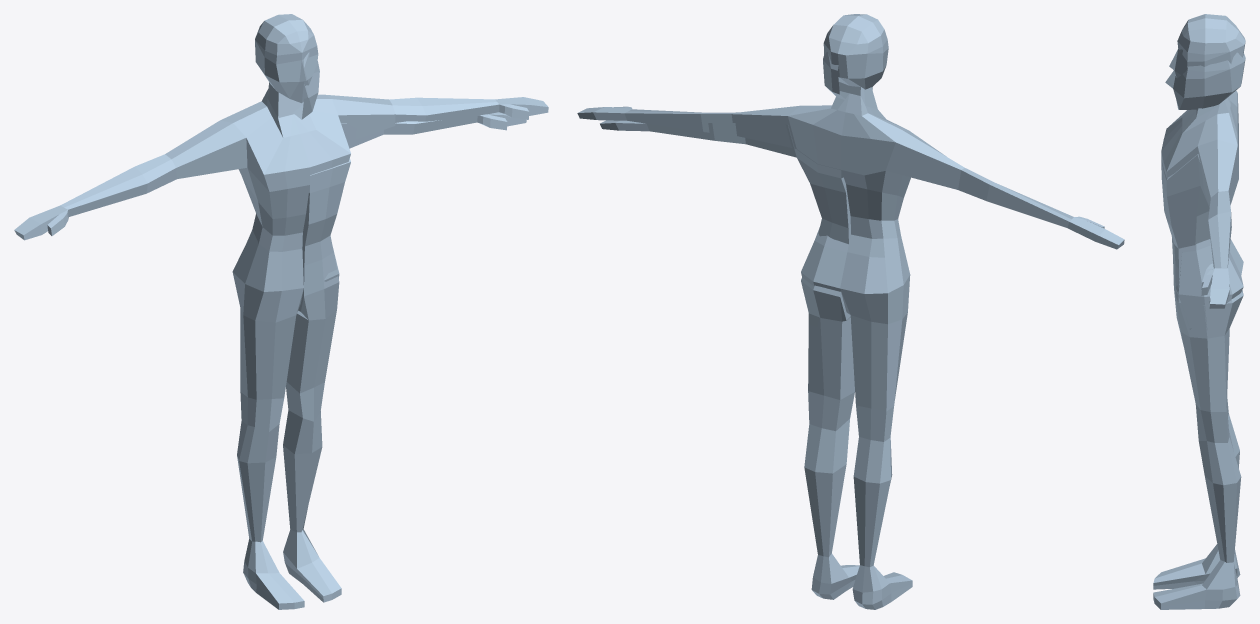
File: body.fbx
3 renders of one model, left to right at view 1: azimuth 30°, elevation 25°; view 2: azimuth 150°, elevation 25°; view 3: azimuth 270°, elevation 25°, orthographic. The views are drawn at different scales.
Visible parts, largest first — view 1: Cube.003, Cube, Cube.002; view 2: Cube.003, Cube, Cube.002; view 3: Cube, Cube.003, Cube.002.
Part boxes in pixels (bbox=[...]): Cube.003: bbox=[14, 82, 548, 609]; Cube: bbox=[283, 52, 526, 602]; Cube.002: bbox=[255, 14, 318, 103]; Cube.003: bbox=[577, 82, 1124, 609]; Cube: bbox=[600, 52, 872, 599]; Cube.002: bbox=[823, 14, 888, 89]; Cube: bbox=[1153, 49, 1245, 609]; Cube.003: bbox=[1153, 90, 1243, 589]; Cube.002: bbox=[1169, 14, 1245, 78].
Bounding box in the file's own units: 291 × 297 × 43.2.
